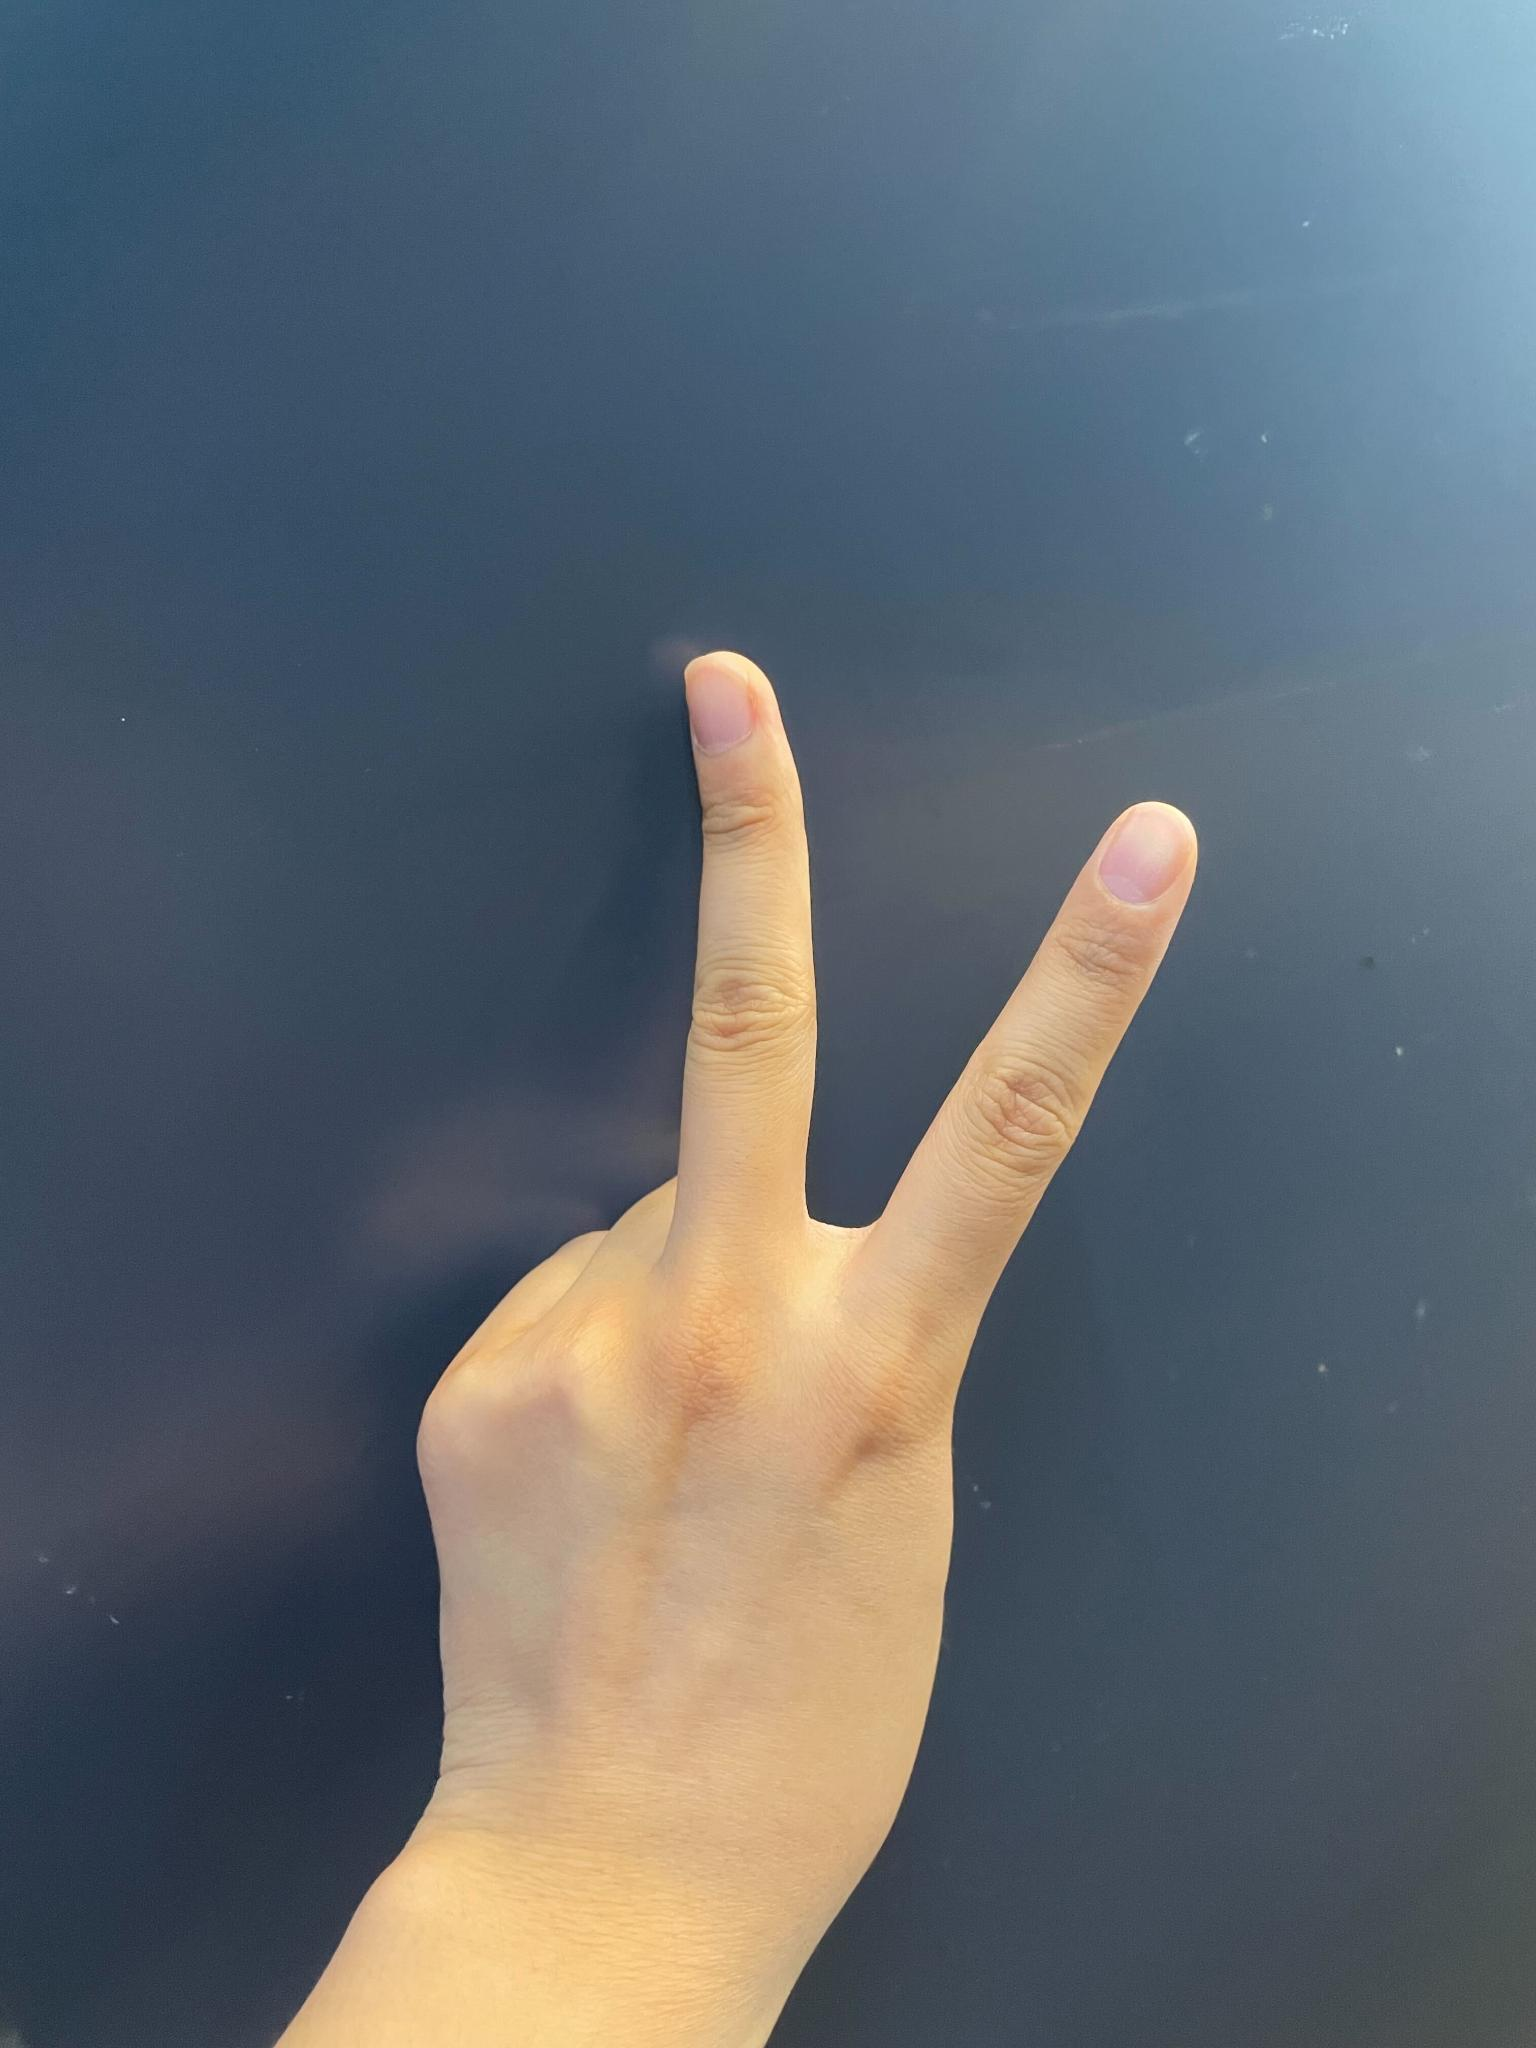v: (373, 643, 1288, 2048)
